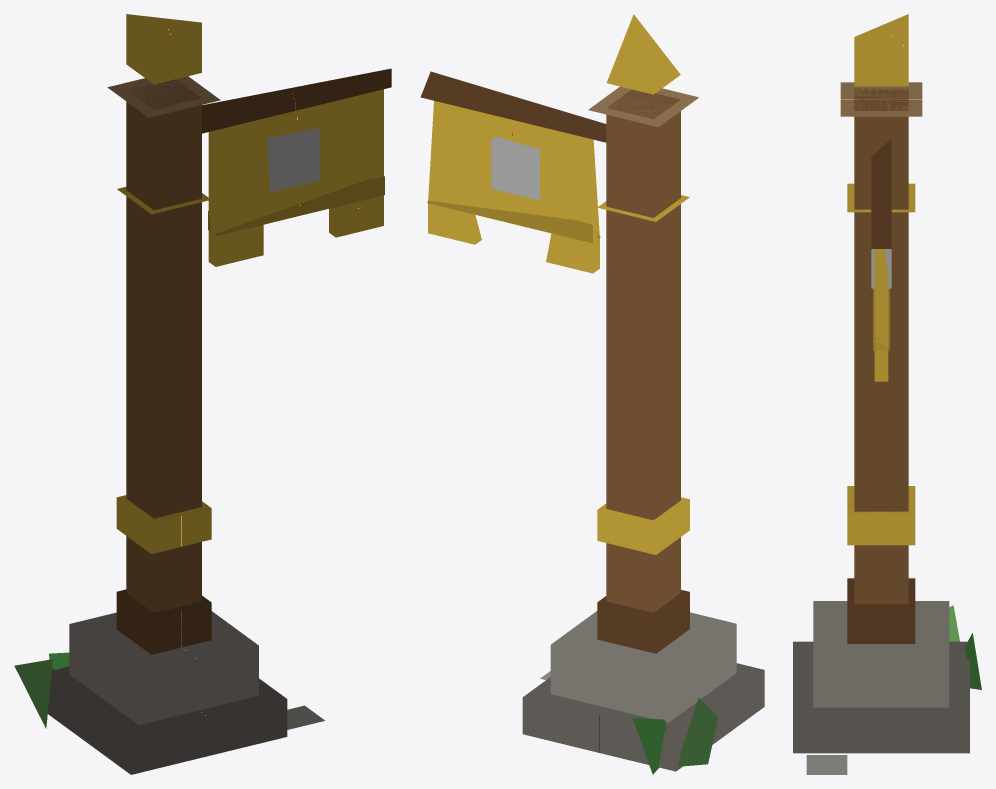
Rendered from territory-marker-bee_lod1.glb.
3 views of the same model, side by side, from view 1: azimuth 30°, elevation 25°; view 2: azimuth 150°, elevation 25°; view 3: azimuth 270°, elevation 25° (orthographic). The views are drawn at different scales.
Visible parts, largest first — view 1: marker-post, banner; view 2: marker-post, banner; view 3: marker-post, banner.
Boxes of the visible parts, x1,y1,x2,y2 form: marker-post: (14, 14, 324, 774); banner: (202, 68, 391, 266); marker-post: (522, 14, 764, 774); banner: (420, 71, 606, 273); marker-post: (793, 14, 981, 774); banner: (871, 139, 891, 381).
Bounding box in the file's own units: 0.5581 × 1.12 × 0.2778.
